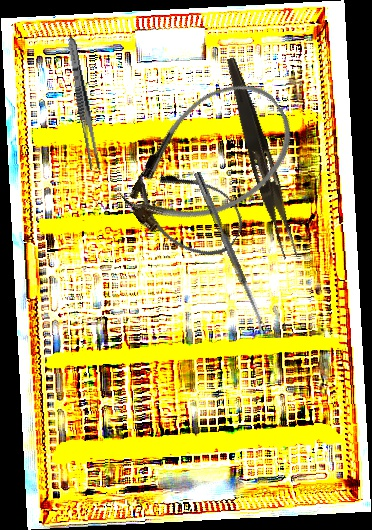Cannula: (100, 63, 313, 257), (119, 150, 254, 270)
Dressing Forceps: (215, 55, 306, 261), (63, 35, 104, 173)
Surgical Spoon: (192, 171, 268, 333)
